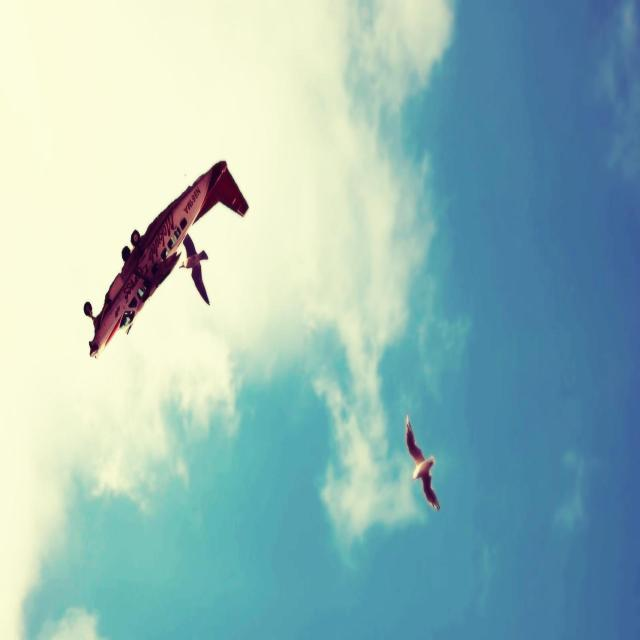airplane: (83, 158, 249, 359)
